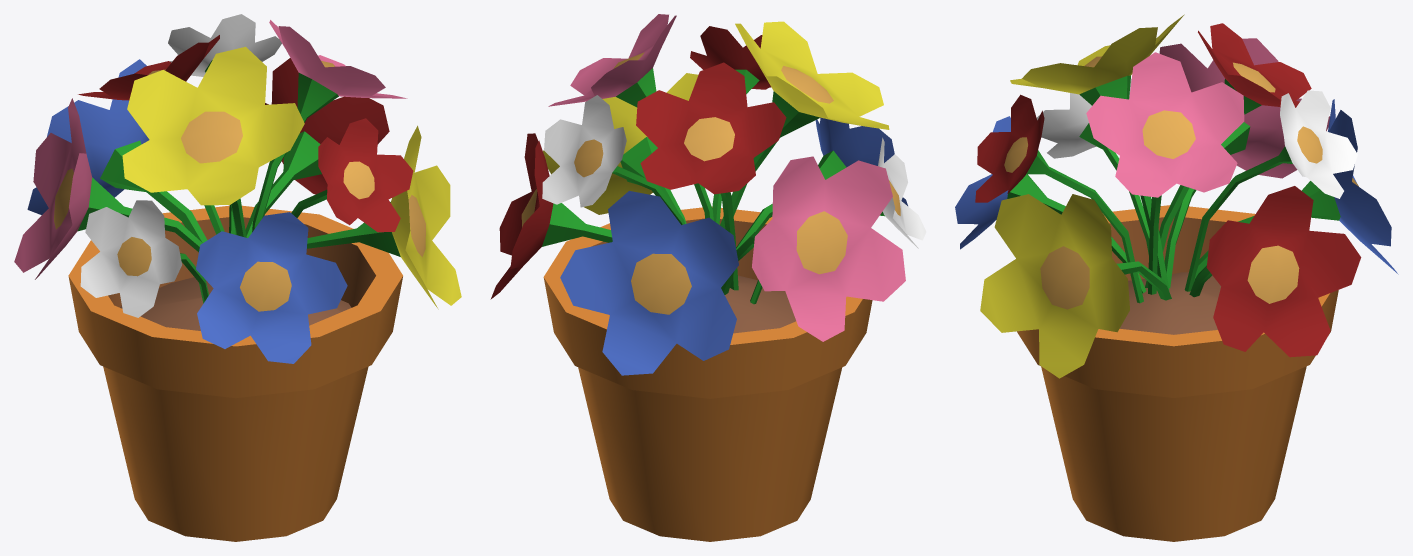
Rendered from Plant15.glb.
The picture shows the model from 3 angles, left to right: view 1: azimuth 30°, elevation 25°; view 2: azimuth 150°, elevation 25°; view 3: azimuth 270°, elevation 25°; orthographic projection.
Parts seen in each view (by area): view 1: Plant15; view 2: Plant15; view 3: Plant15.
Boxes of the visible parts, left/top/right/bottom form: Plant15: left=14, top=14, right=461, bottom=541; Plant15: left=490, top=14, right=926, bottom=541; Plant15: left=955, top=14, right=1398, bottom=541.
Bounding box in the file's own units: 0.7228 × 0.8287 × 0.7111.
Materials: 1 (1 with a texture image).
